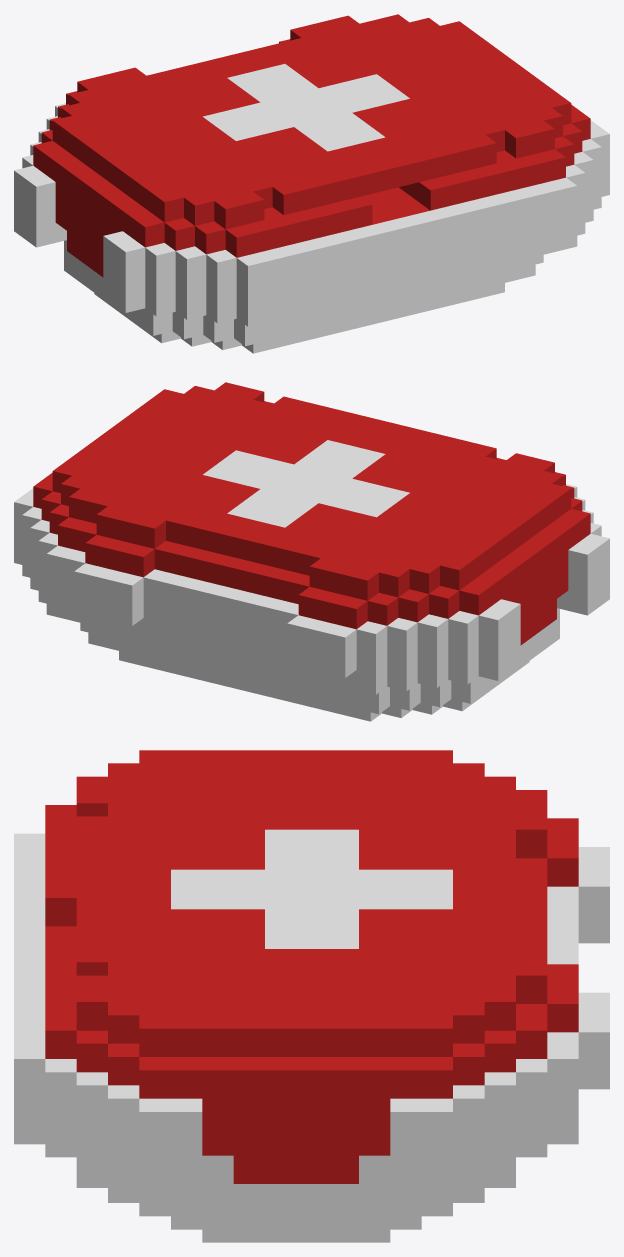
Rendered from MedKit (2).obj.
3 views of the same model, one above another, from view 1: azimuth 30°, elevation 25°; view 2: azimuth 150°, elevation 25°; view 3: azimuth 270°, elevation 25° (orthographic). The views are drawn at different scales.
Size of the model in its own units: 2.5 by 0.8 by 1.9.
Materials: 1 (1 with a texture image).
